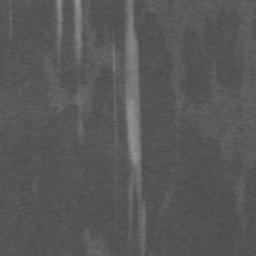Bright scratch: (123, 0, 146, 255), (75, 0, 82, 64), (56, 0, 63, 59)
